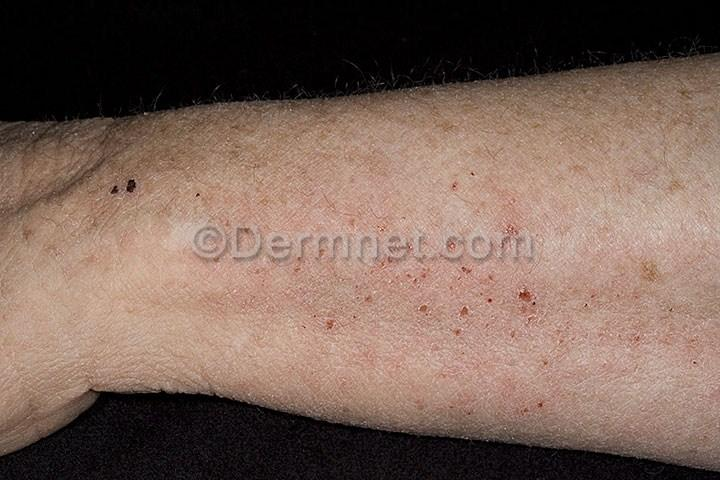Eczema: (322, 267, 558, 398), (554, 261, 684, 395), (212, 119, 381, 220), (379, 129, 539, 228), (76, 132, 209, 220), (231, 271, 327, 366)
